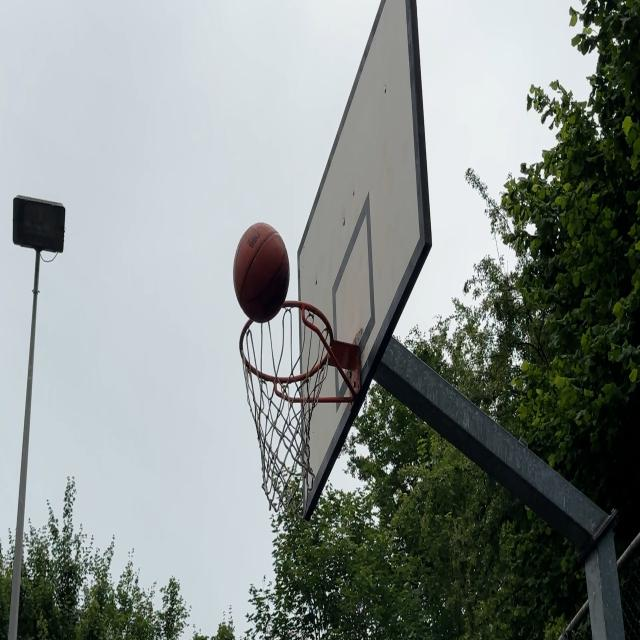Basketball: (232, 225, 288, 324)
